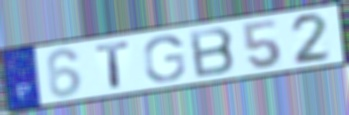2: (290, 11, 332, 66)
5: (240, 17, 284, 70)
6: (44, 46, 87, 99)
B: (187, 25, 238, 80)
G: (141, 34, 187, 84)
T: (93, 39, 132, 90)
